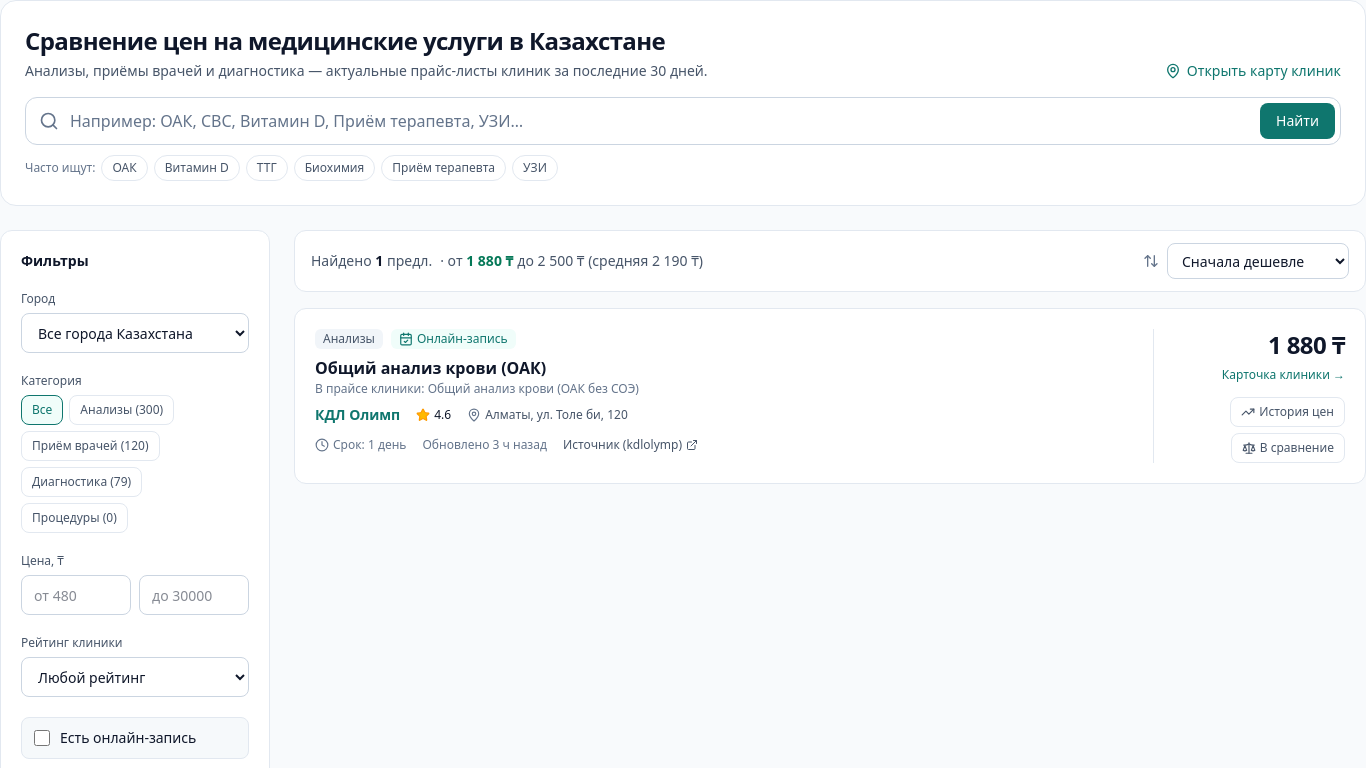
Test: SearchPage › loads offers with freshness and source link, supports autocomplete and compare toggle
Expected: the link "КДЛ Олимп" is shown, [315,405,400,425]
Expected: the text "Обновлено 3 ч назад" is shown, [422,437,547,453]
# Type into autocomplete combobox
In the dropdown named "Поиск медицинской услуги": (683, 121) [25,97,1341,145], type "ОАК"
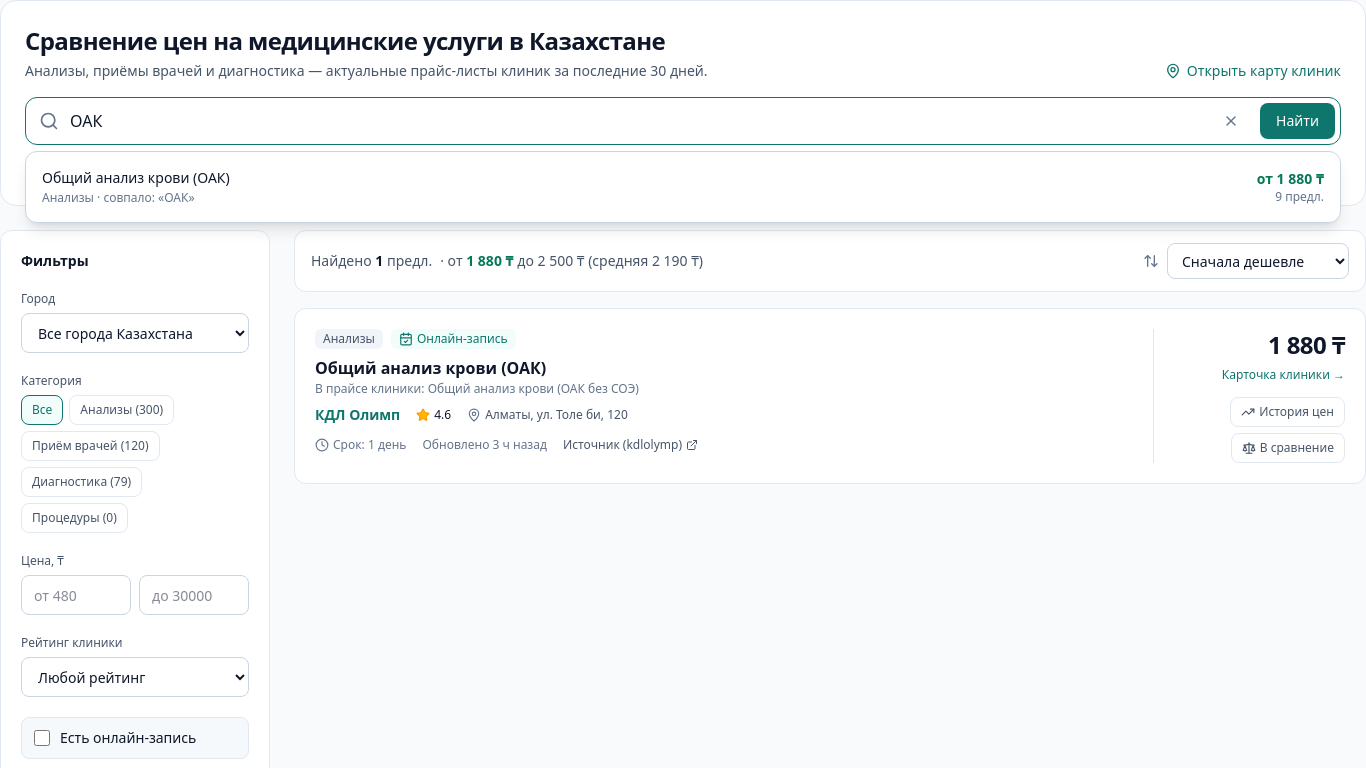
Click the option "Общий анализ крови (ОАК)": (136, 178) [26,158,1340,216]
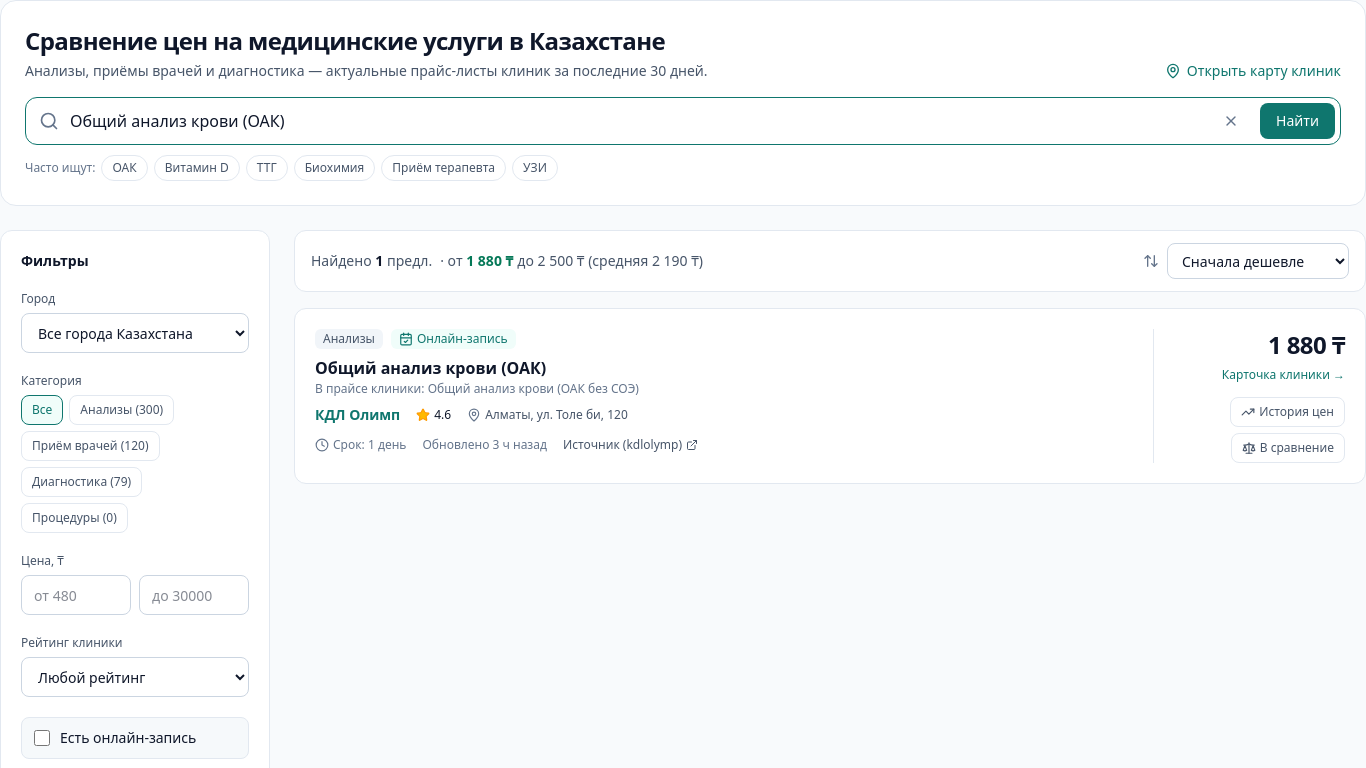
# Toggle online booking filter
Click the checkbox labelled "Есть онлайн-запись": (42, 738) [34,730,50,746]
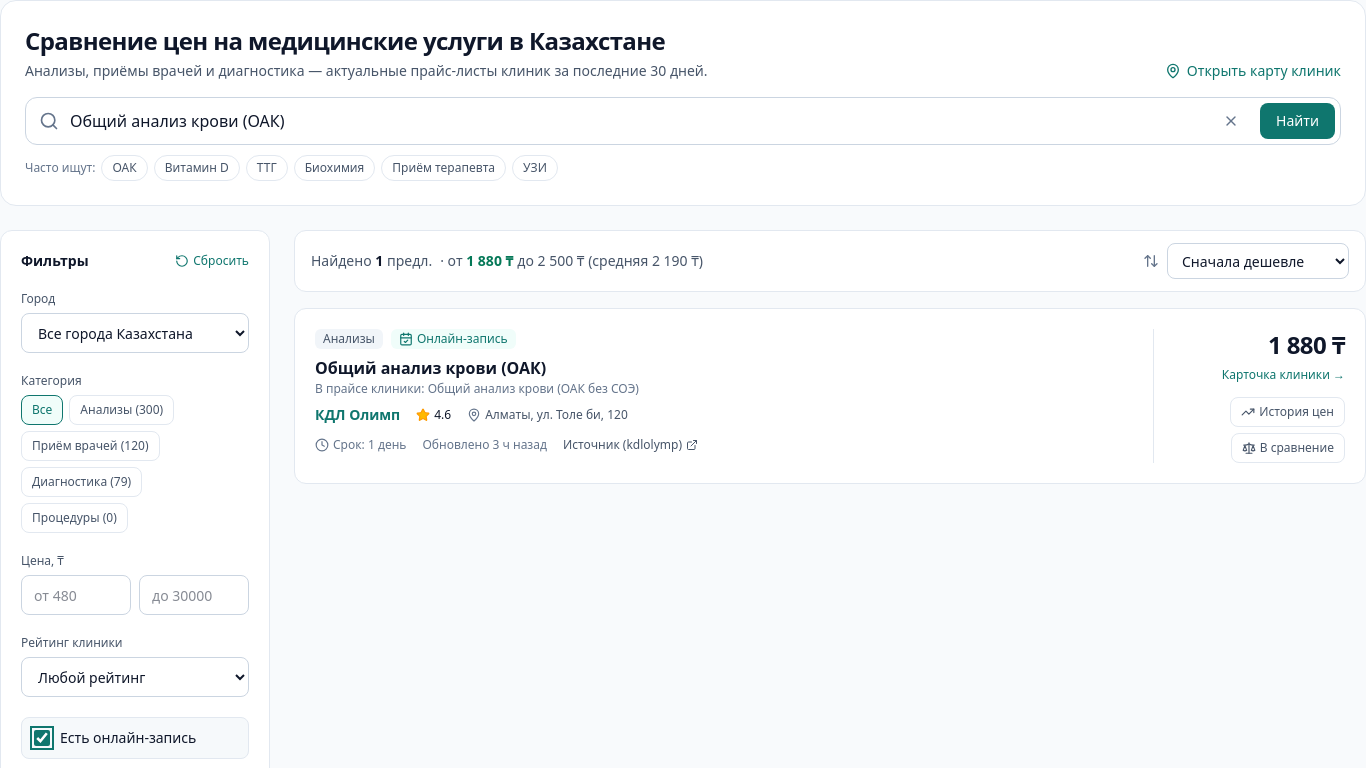
# Add clinic to CompareDock from OfferCard
Click the button "В сравнение": (1288, 448) [1231,433,1345,463]
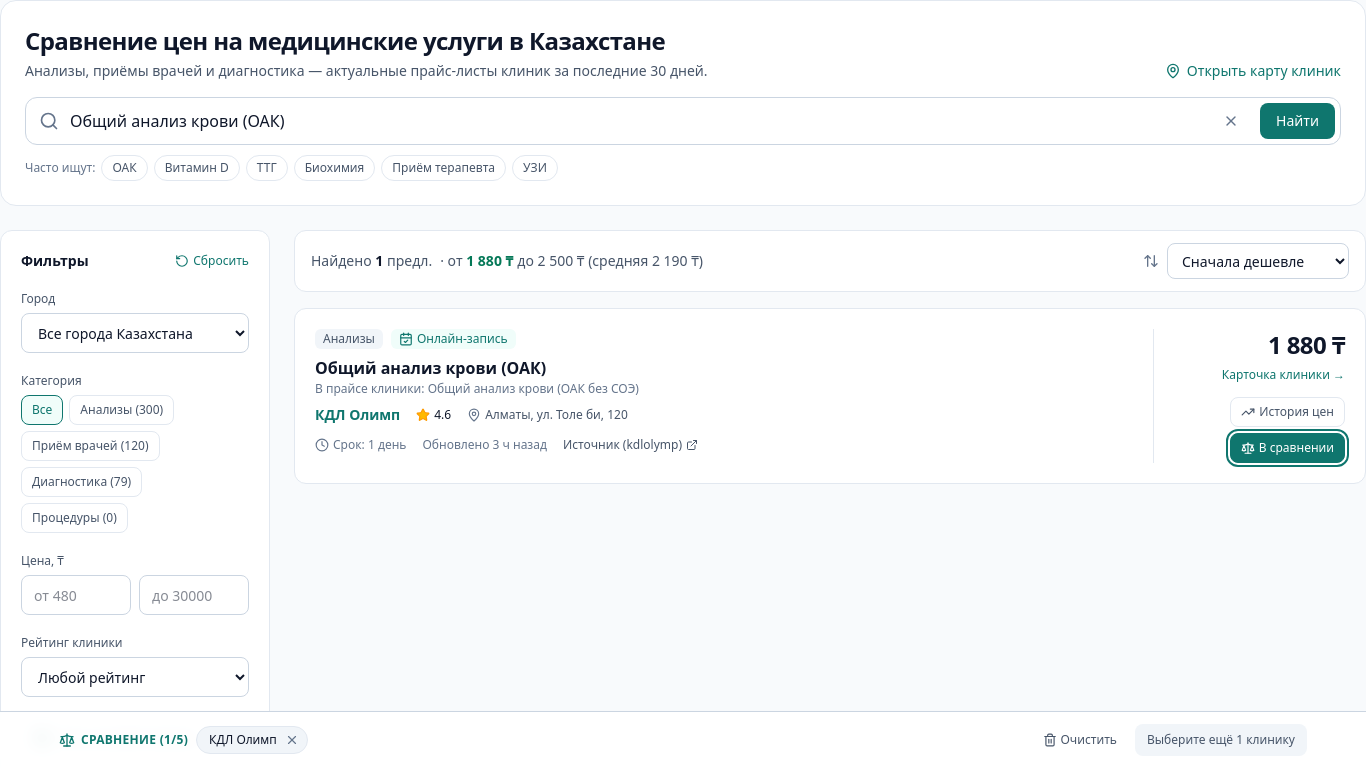
Expected: the text "Сравнение (1/5)" is shown, [59,732,188,748]
